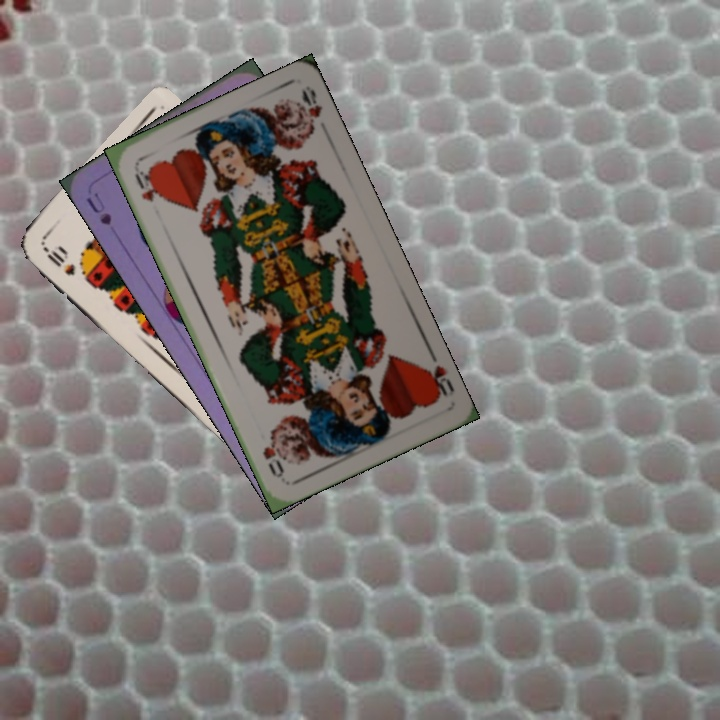HO: (418, 345, 457, 404), (130, 166, 163, 205)
S10: (39, 242, 78, 279)
SU: (82, 188, 115, 228)
